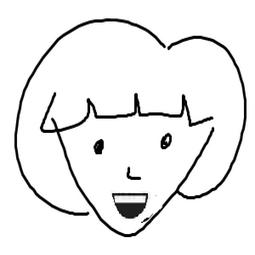open_mouth: (108, 189, 152, 222)
pointy_nose: (118, 162, 149, 183)
small_eye: (157, 128, 175, 151), (92, 139, 108, 155)
